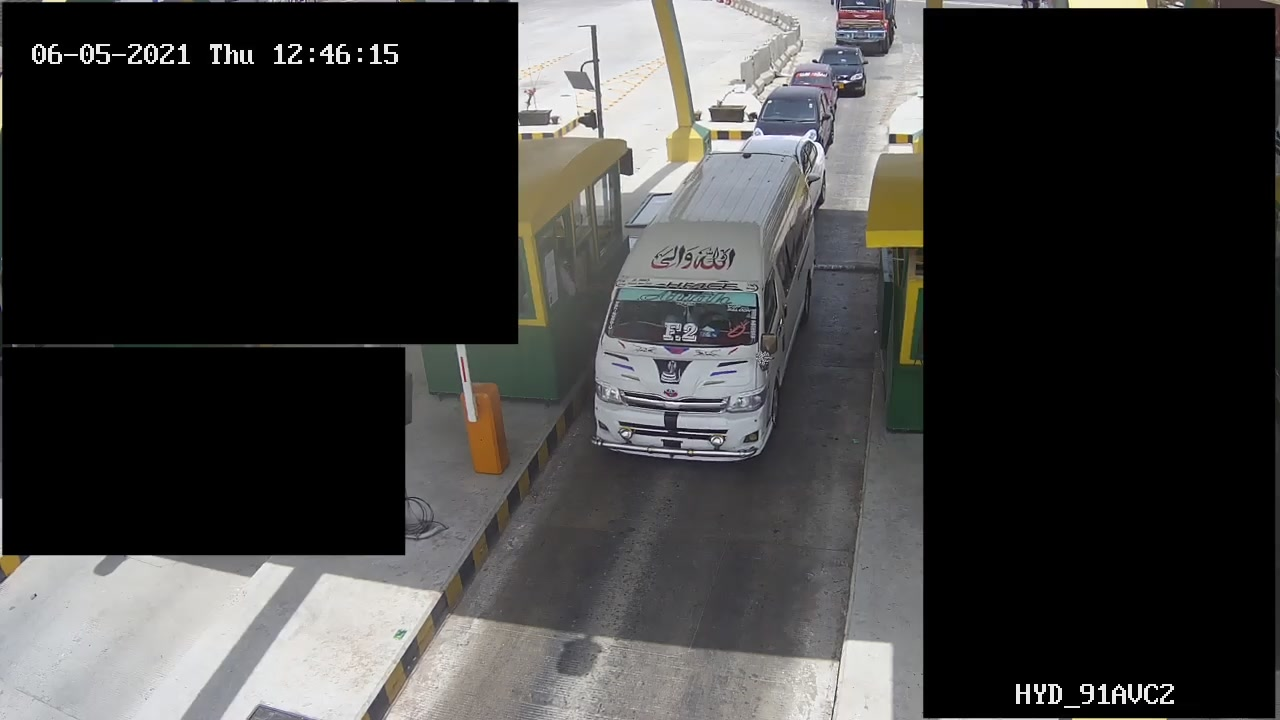F2: (590, 143, 818, 469)
